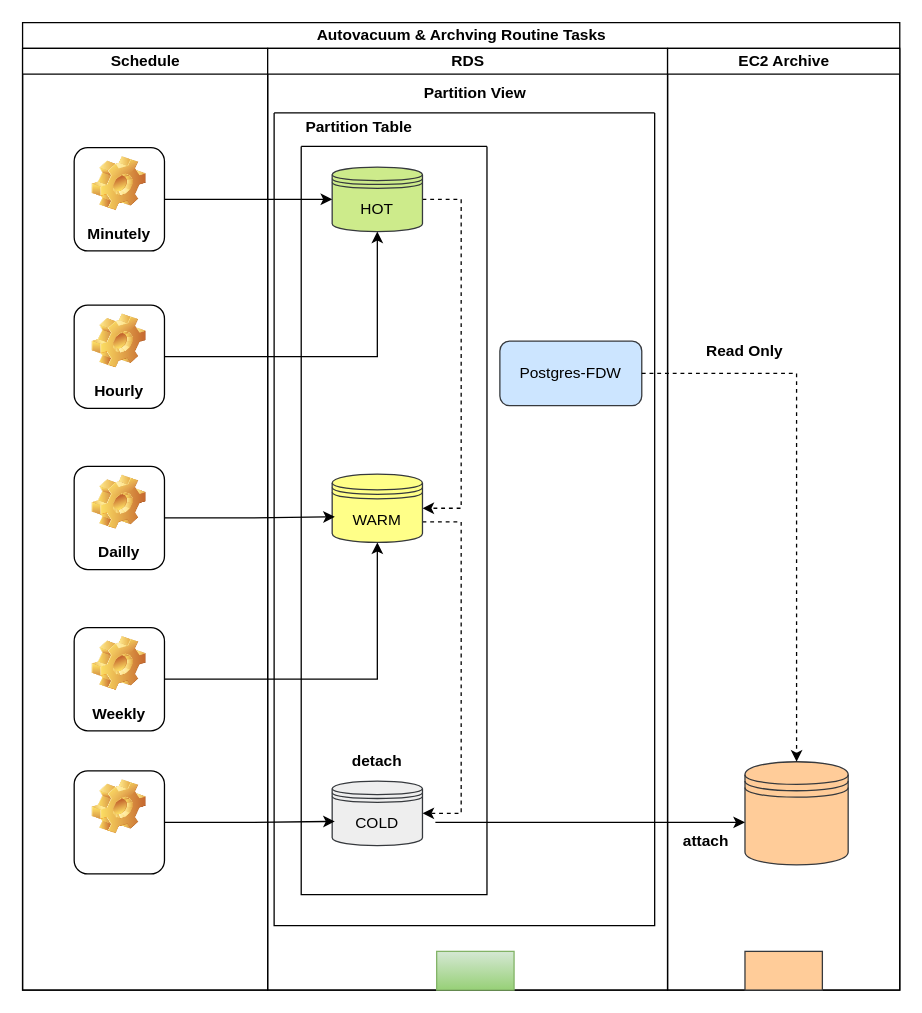
Image size: 922x1013. Some labels were removed from this diagram. The shapes that lost their labels are listed below. From the top down, each one's centre as x and y in pixels, then its label:
At point (464, 519): "ETL".
At point (118, 821): "Monthly".
At point (796, 812): "Archiving".
At point (474, 970): "expensive".
At point (783, 970): "cheaper".
